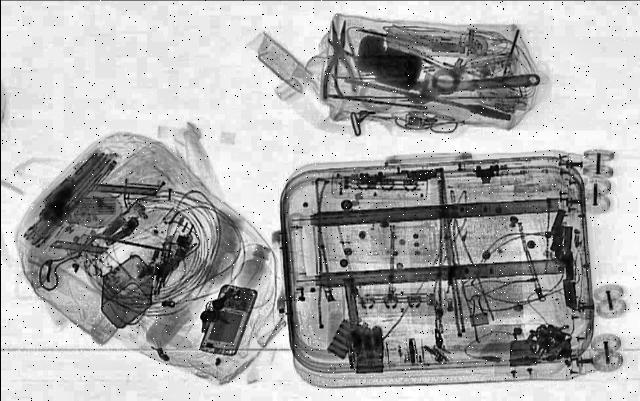Wrench: (396, 64, 544, 106)
